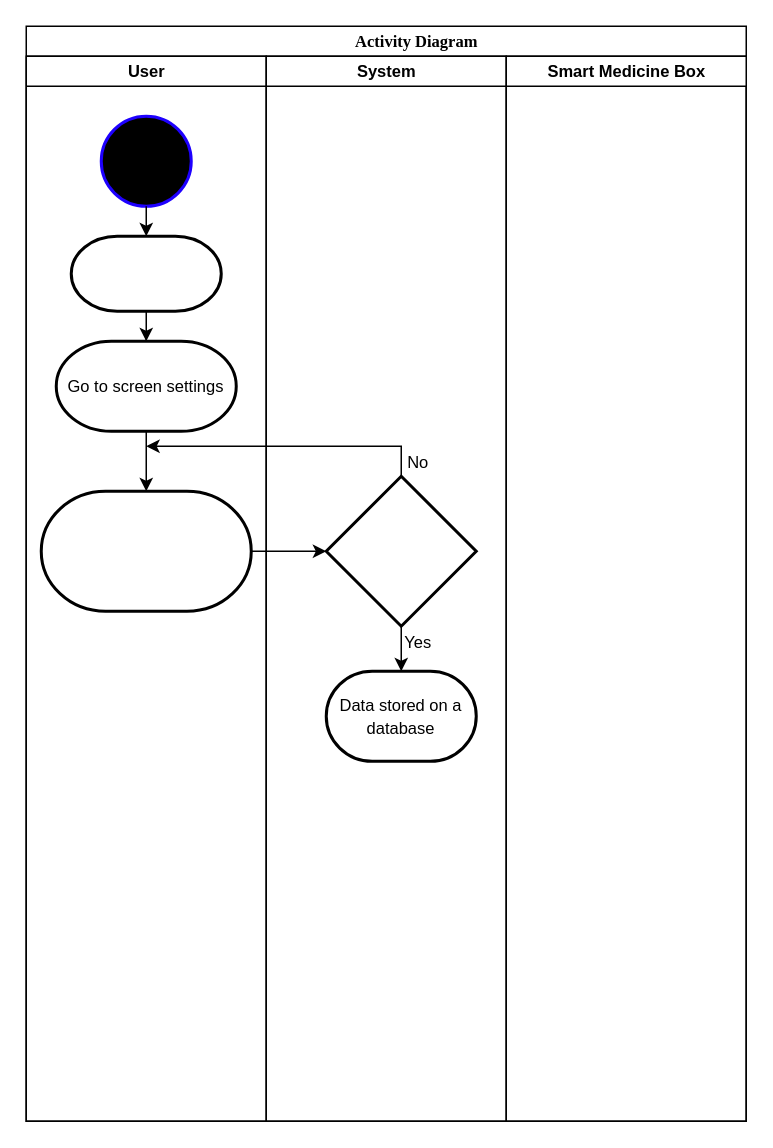
Image size: 773x1148. Some labels were removed from this diagram. The shapes that lost their labels are listed below. From the top down, each one's centre as x and y in pixels, then its label:
point (145, 273): Open an App
point (145, 550): Input drug exit schedule, number of doses, amount of drug
point (400, 550): Data can be stored
